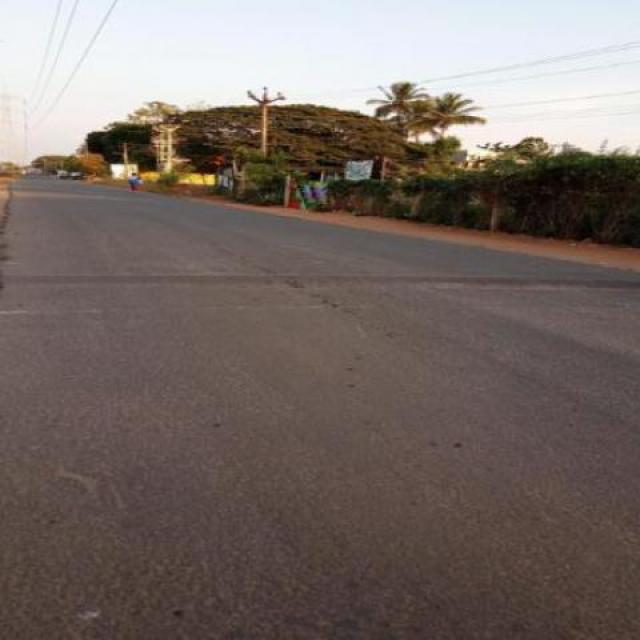Unmarked Bump: (1, 271, 639, 294)
